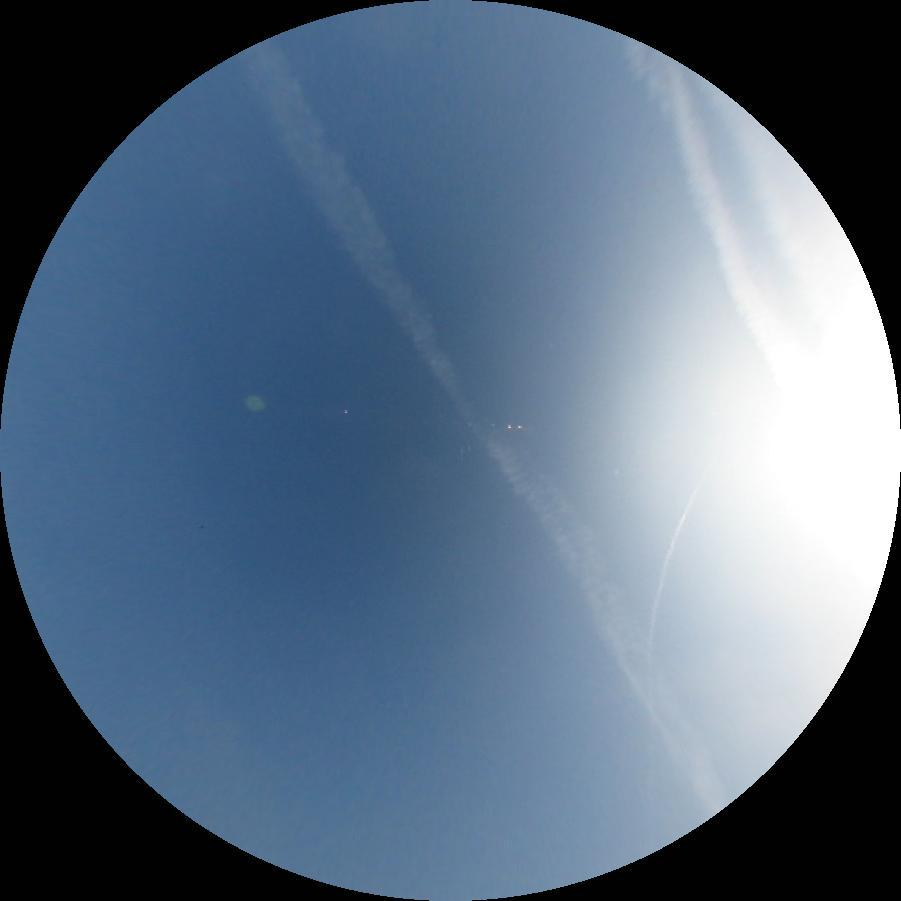contrail old: (639, 476, 702, 648)
contrail veryold: (227, 33, 751, 816), (613, 17, 799, 340), (701, 56, 877, 338)
sun: (760, 328, 901, 586)
